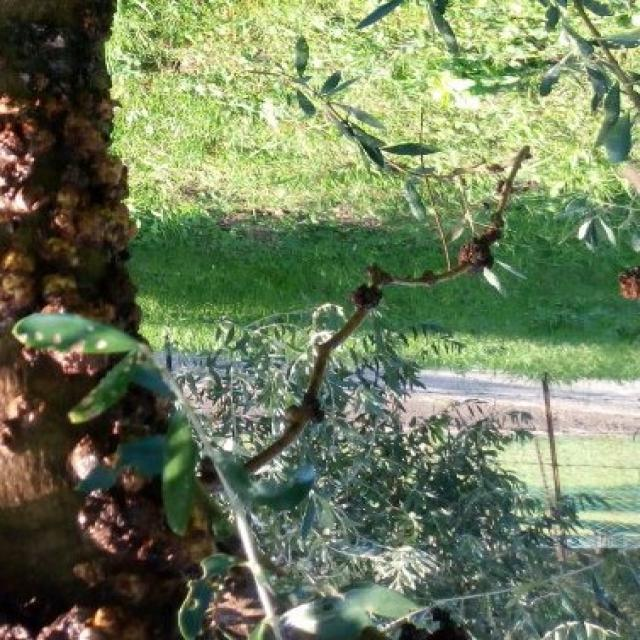Tuberculosis: (0, 0, 139, 329), (458, 210, 504, 272), (356, 290, 384, 308)
